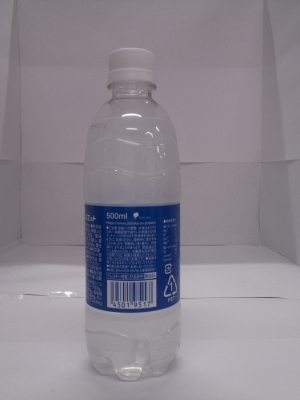pocari: (66, 36, 203, 389)
